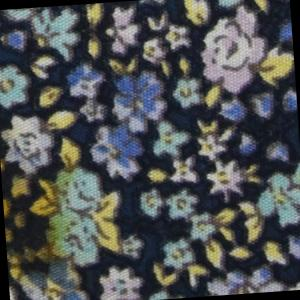Oil Stain: (1, 153, 88, 300)
